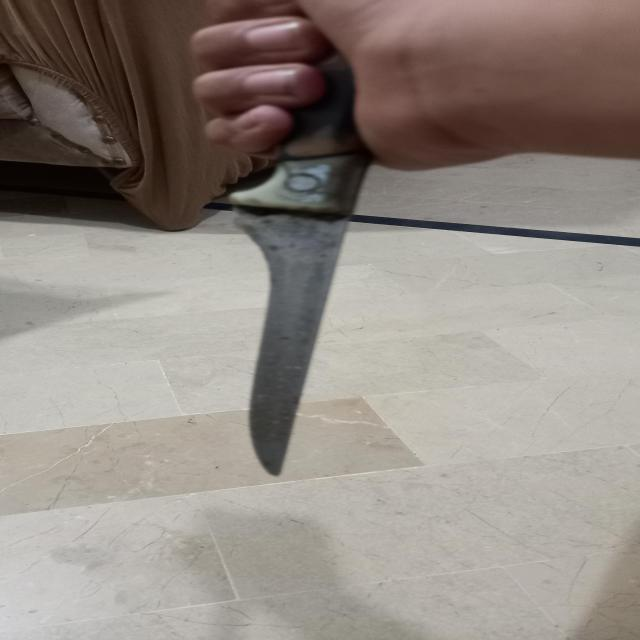Knife: (228, 45, 370, 477)
Person: (194, 0, 639, 162)
